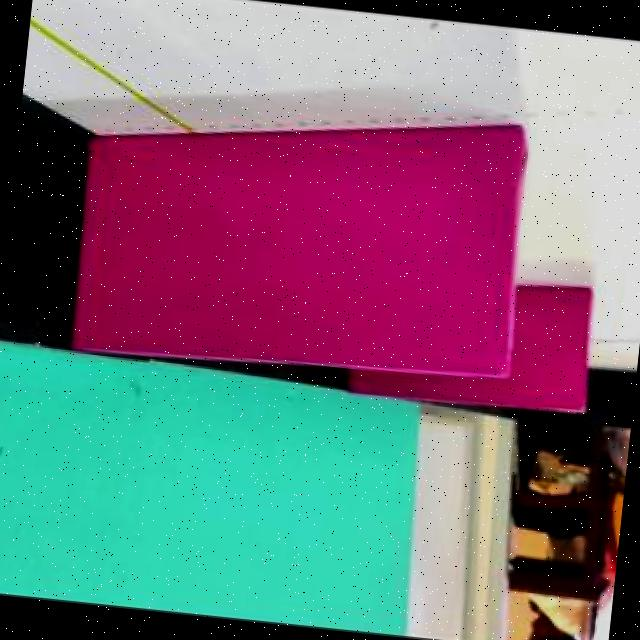xparking: (76, 67, 526, 376), (504, 283, 594, 412)
